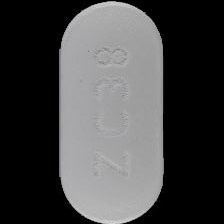63739-777: (0, 0, 224, 224)
